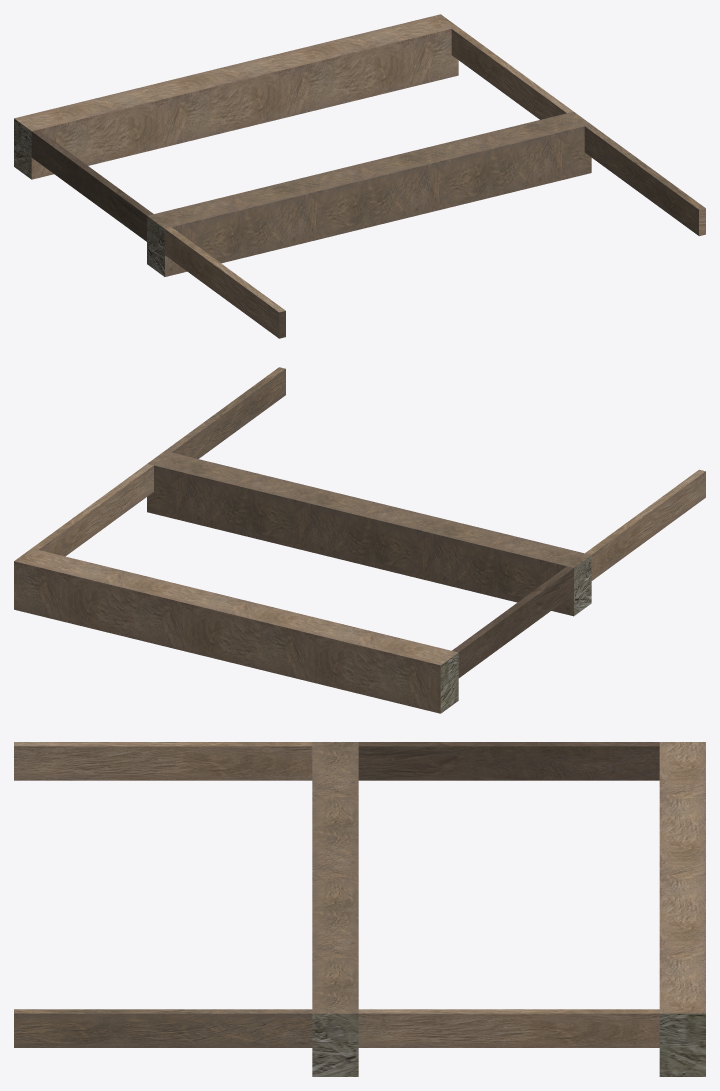
Rendered from RafterCenterH.fbx.
3 renders of one model, top to bottom at view 1: azimuth 30°, elevation 25°; view 2: azimuth 150°, elevation 25°; view 3: azimuth 270°, elevation 25°, orthographic. The views are drawn at different scales.
Parts seen in each view (by area): view 1: RafterCenterH; view 2: RafterCenterH; view 3: RafterCenterH.
Part boxes in pixels (x1=…): RafterCenterH: x1=14, y1=14, x2=705, y2=338; RafterCenterH: x1=14, y1=367, x2=705, y2=713; RafterCenterH: x1=14, y1=742, x2=705, y2=1076.
Bounding box in the file's own units: 374 × 40.53 × 402.
